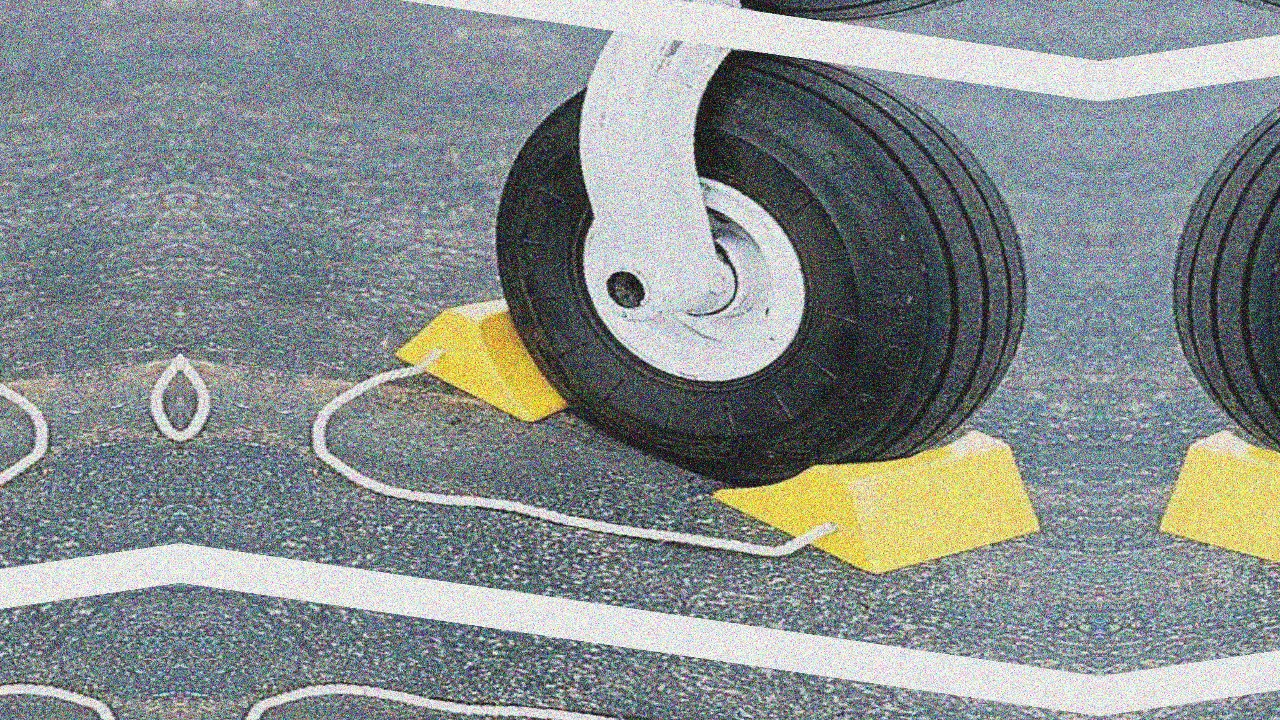chock: (702, 397, 1063, 596), (380, 276, 650, 436), (1137, 397, 1280, 596)
wheel: (436, 20, 1079, 524), (1121, 20, 1280, 524)
